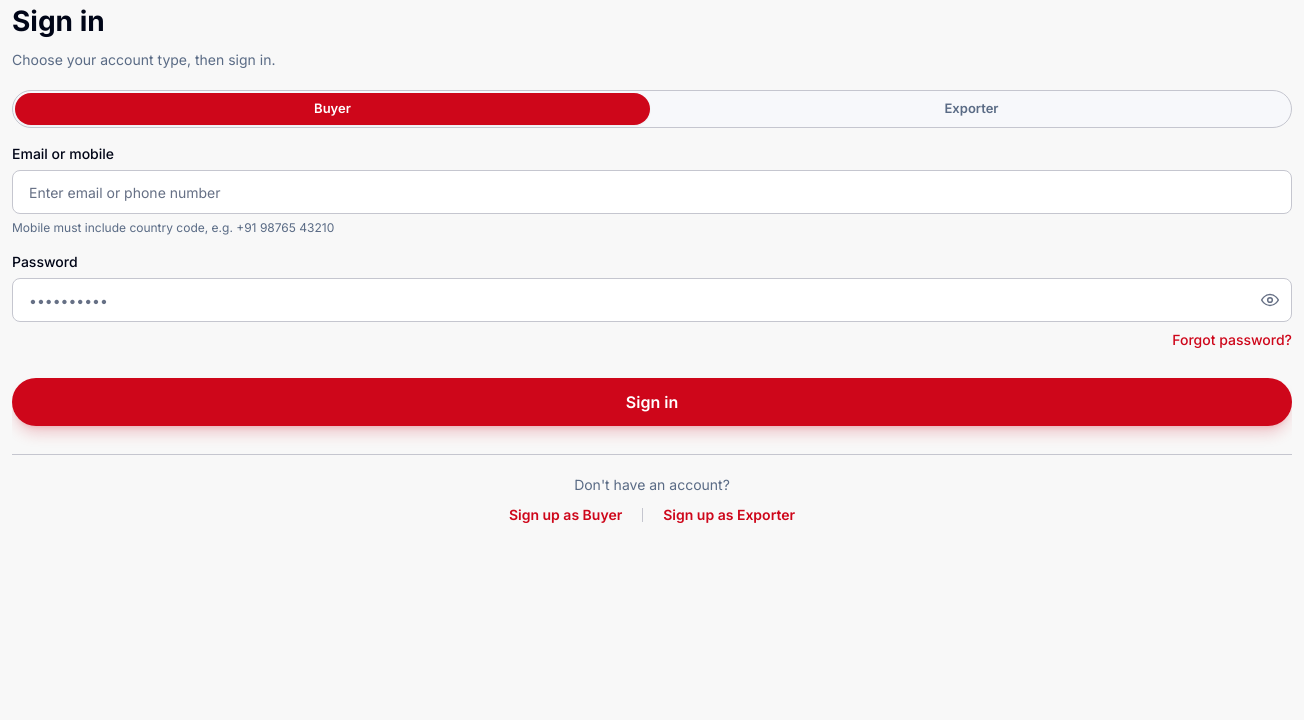
Scenario: Sign in › shows the server's generic refusal and stays on the page
In the field labelled "Email or mobile": (652, 192) [12,170,1292,214], type "buyer@example.com"
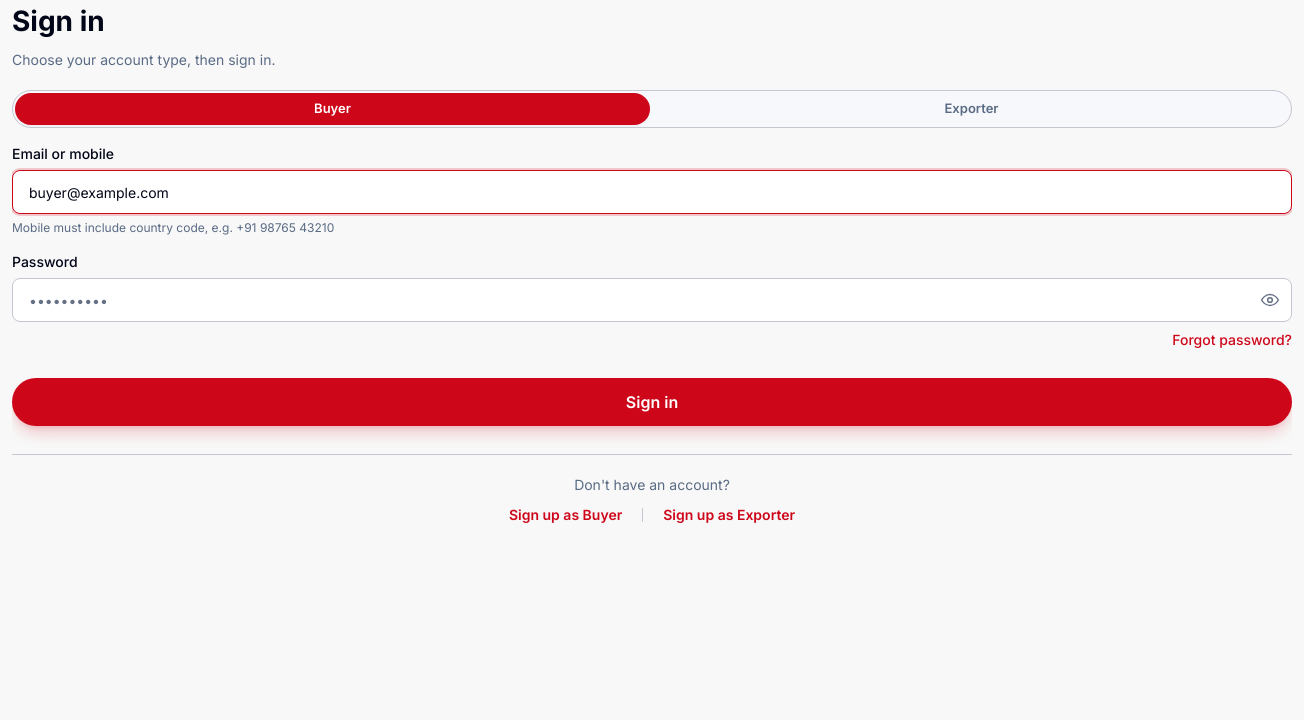
In the password field with placeholder "••••••••••": (652, 300) [12,278,1292,322], type "longpassword1"
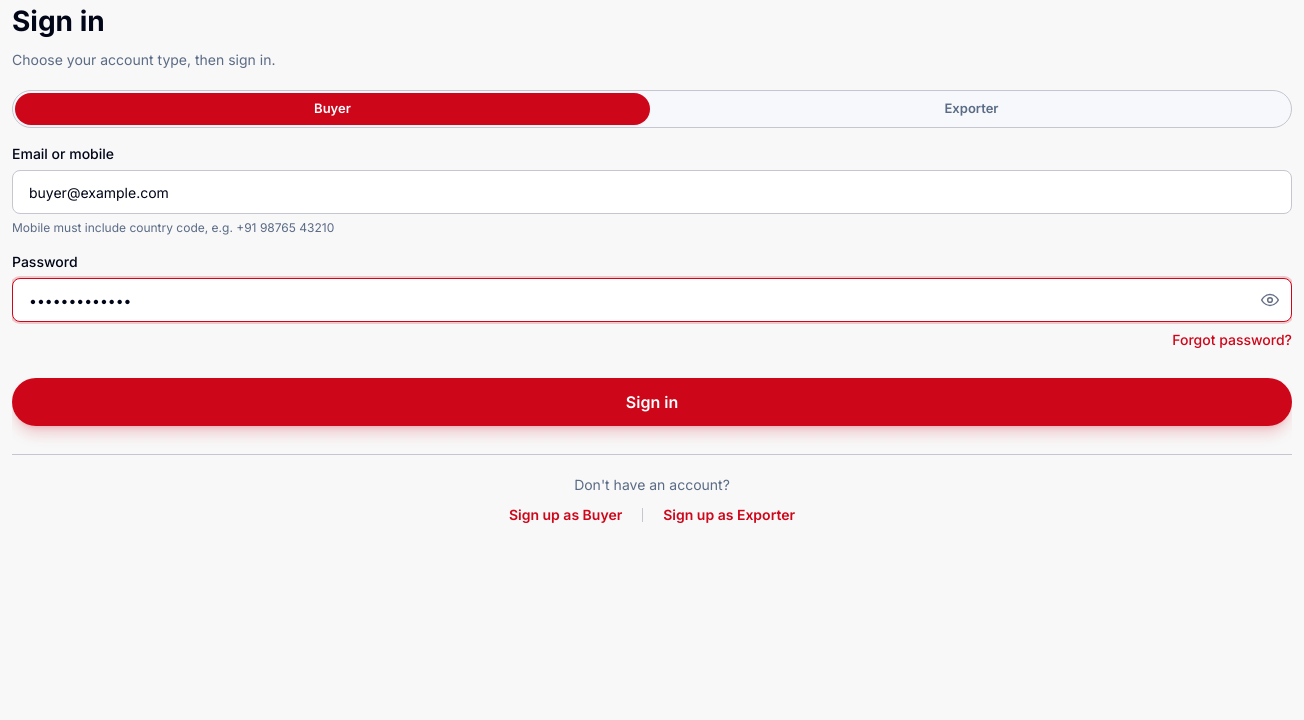
Click the button "Sign in": click(652, 402) [12,378,1292,426]
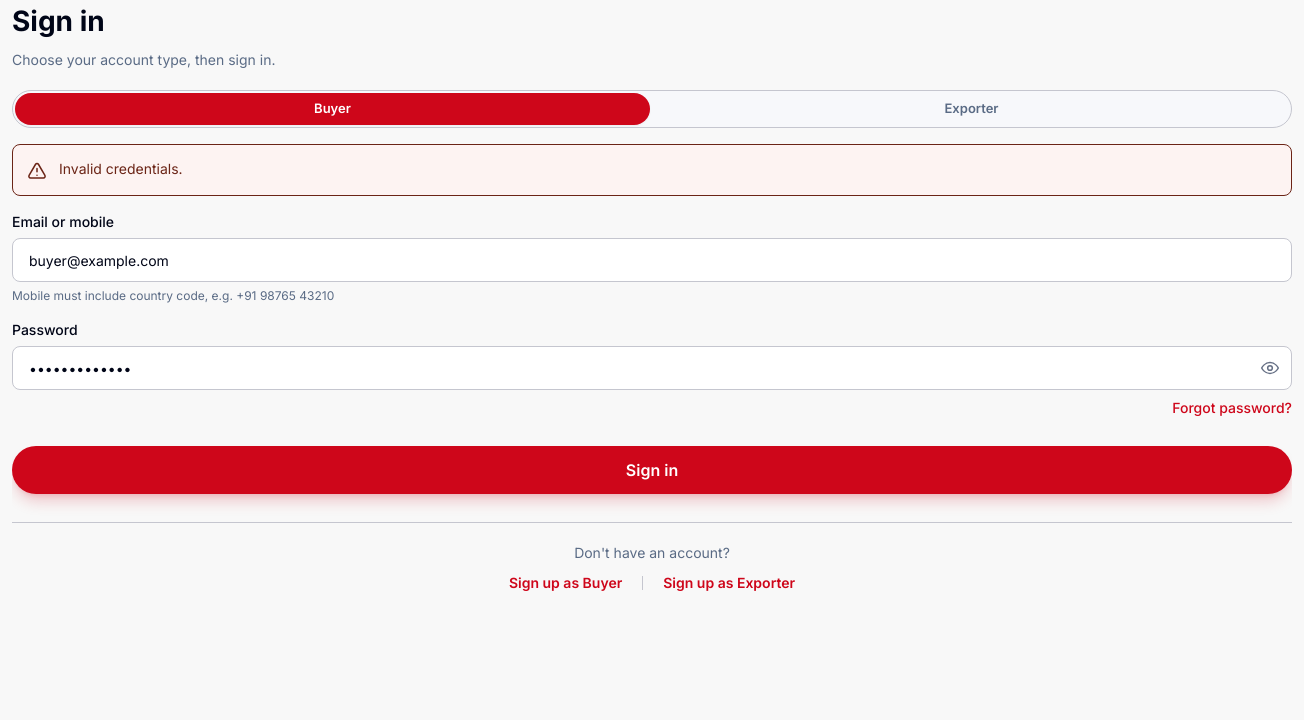
Now the text "Invalid credentials." is shown, box [59,159,183,179]
